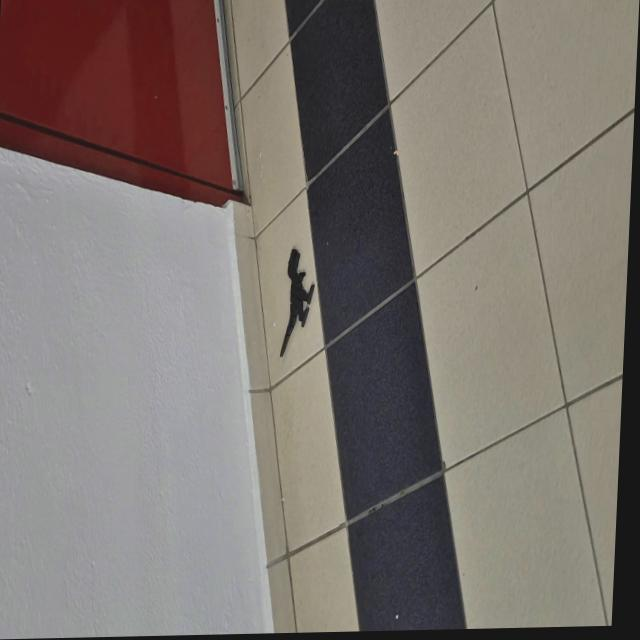dino: (278, 247, 316, 358)
